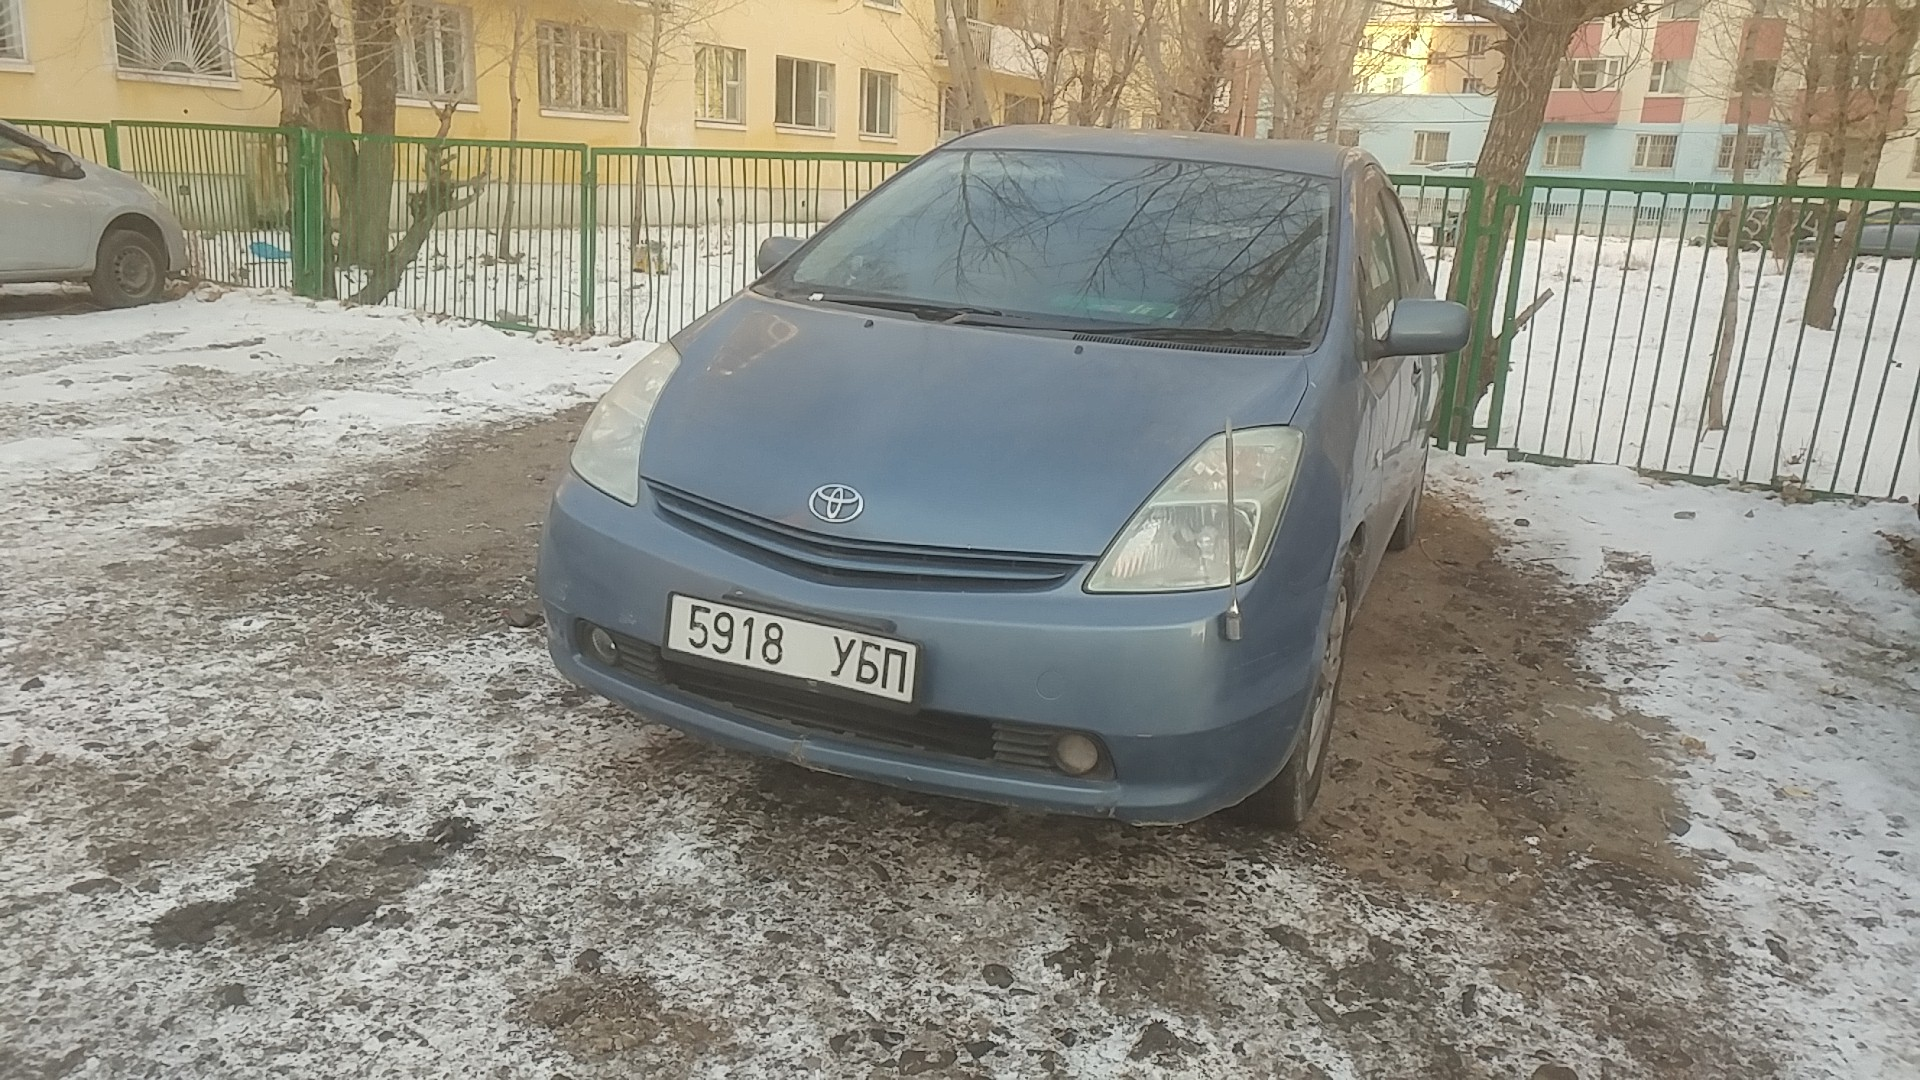1: (740, 614, 757, 661)
5: (688, 602, 711, 651)
8: (760, 620, 787, 667)
9: (713, 610, 737, 654)
b: (855, 639, 883, 686)
p: (880, 645, 909, 693)
plate: (657, 589, 928, 712)
u: (830, 632, 858, 679)
